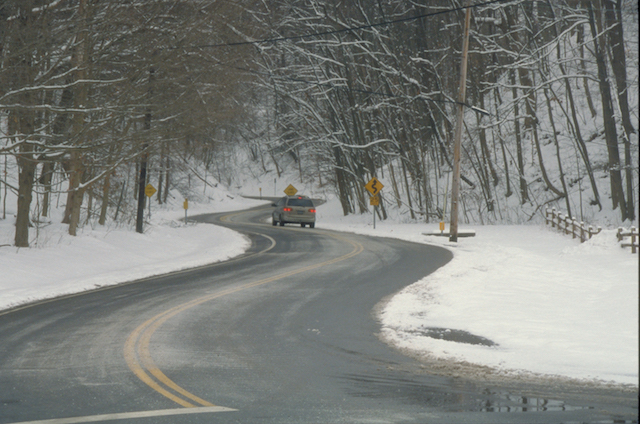car: (270, 194, 318, 230)
